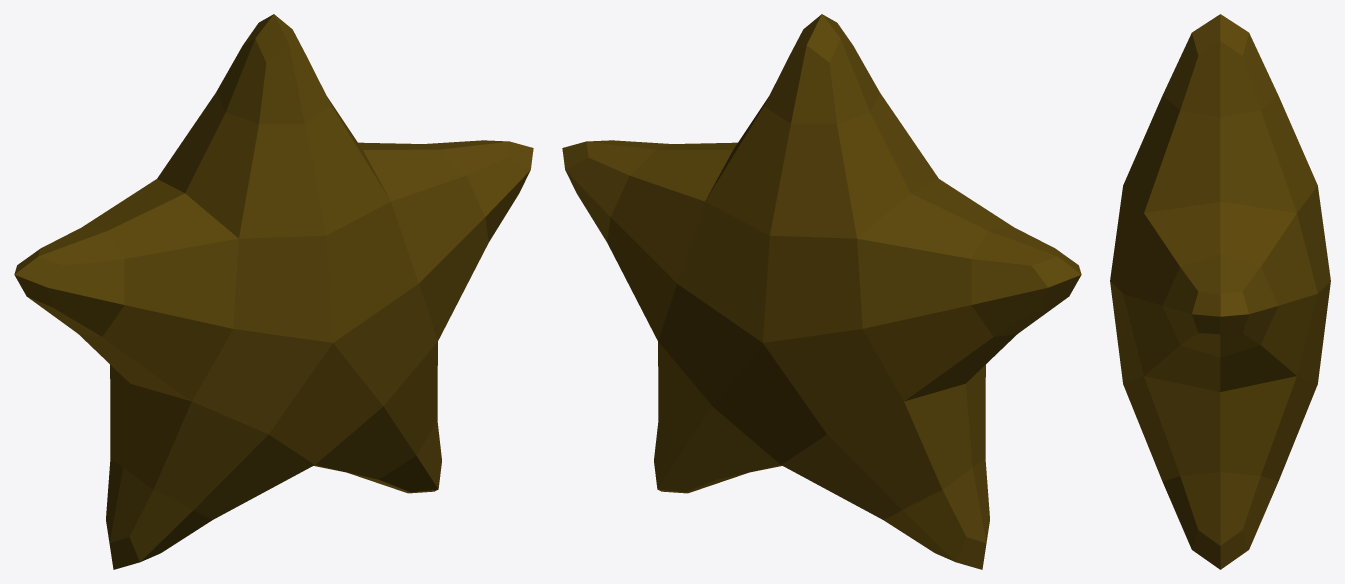
File: star.glb
The picture shows the model from 3 angles, left to right: view 1: azimuth 30°, elevation 25°; view 2: azimuth 150°, elevation 25°; view 3: azimuth 270°, elevation 25°; orthographic projection. The views are drawn at different scales.
Parts seen in each view (by area): view 1: Star_Cylinder.017; view 2: Star_Cylinder.017; view 3: Star_Cylinder.017.
Boxes of the visible parts, box(x1,y1,x2,y2) form: Star_Cylinder.017: box(14, 14, 533, 569); Star_Cylinder.017: box(562, 14, 1081, 569); Star_Cylinder.017: box(1110, 14, 1330, 569).
Bounding box in the file's own units: 0.9319 × 0.8862 × 0.3676.
